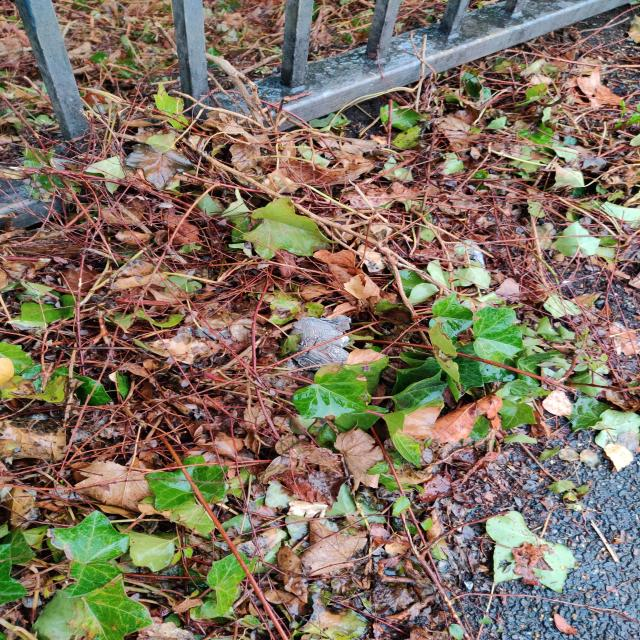litter: (267, 290, 386, 384)
